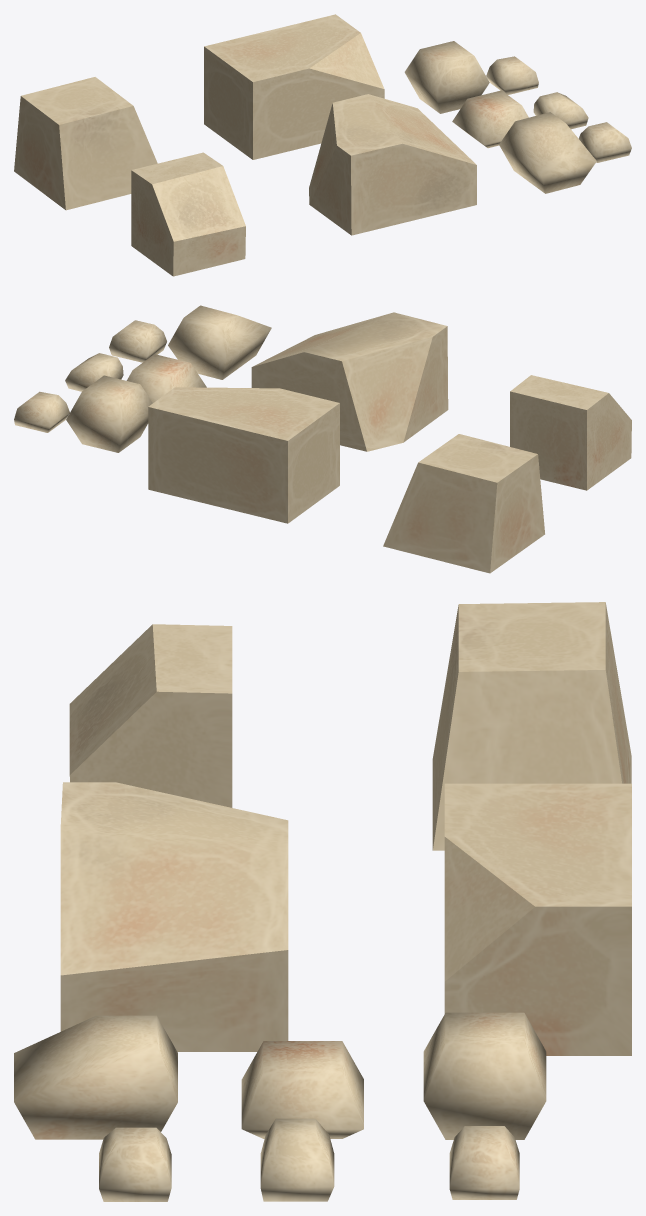
3 views of the same model, one above another, from view 1: azimuth 30°, elevation 25°; view 2: azimuth 150°, elevation 25°; view 3: azimuth 270°, elevation 25° (orthographic). The views are drawn at different scales.
Parts seen in each view (by area): view 1: rub2_lo1, rub4_lo1, rub1_lo1, rub3_lo1, rub7_lo1, rub5_lo1, rub6_lo1, rub10_lo1, rub8_lo1, rub9_lo1; view 2: rub2_lo1, rub4_lo1, rub1_lo1, rub3_lo1, rub7_lo1, rub5_lo1, rub6_lo1, rub10_lo1, rub8_lo1, rub9_lo1; view 3: rub4_lo1, rub2_lo1, rub1_lo1, rub3_lo1, rub7_lo1, rub5_lo1, rub6_lo1, rub9_lo1, rub10_lo1, rub8_lo1.
Boxes of the visible parts, x1=… form: rub2_lo1: x1=204, y1=14, x2=384, y2=159; rub4_lo1: x1=309, y1=94, x2=476, y2=235; rub1_lo1: x1=14, y1=77, x2=157, y2=210; rub3_lo1: x1=131, y1=152, x2=245, y2=276; rub7_lo1: x1=499, y1=112, x2=596, y2=193; rub5_lo1: x1=404, y1=41, x2=489, y2=113; rub6_lo1: x1=452, y1=90, x2=528, y2=148; rub10_lo1: x1=578, y1=122, x2=631, y2=162; rub8_lo1: x1=486, y1=56, x2=538, y2=94; rub9_lo1: x1=533, y1=92, x2=588, y2=129; rub2_lo1: x1=148, y1=387, x2=339, y2=523; rub4_lo1: x1=251, y1=312, x2=448, y2=451; rub1_lo1: x1=383, y1=434, x2=544, y2=573; rub3_lo1: x1=510, y1=375, x2=631, y2=490; rub7_lo1: x1=168, y1=305, x2=271, y2=379; rub5_lo1: x1=66, y1=375, x2=152, y2=452; rub6_lo1: x1=126, y1=354, x2=206, y2=402; rub10_lo1: x1=109, y1=320, x2=166, y2=362; rub8_lo1: x1=14, y1=391, x2=69, y2=432; rub9_lo1: x1=65, y1=353, x2=123, y2=391; rub4_lo1: x1=60, y1=782, x2=288, y2=1051; rub2_lo1: x1=444, y1=783, x2=631, y2=1055; rub1_lo1: x1=432, y1=602, x2=631, y2=850; rub3_lo1: x1=69, y1=624, x2=232, y2=807; rub7_lo1: x1=14, y1=1015, x2=177, y2=1139; rub5_lo1: x1=423, y1=1012, x2=546, y2=1139; rub6_lo1: x1=241, y1=1041, x2=363, y2=1138; rub9_lo1: x1=260, y1=1118, x2=334, y2=1201; rub10_lo1: x1=99, y1=1127, x2=171, y2=1201; rub8_lo1: x1=449, y1=1126, x2=519, y2=1199.
Bounding box in the file's own units: 2.61 × 0.432 × 1.52.
